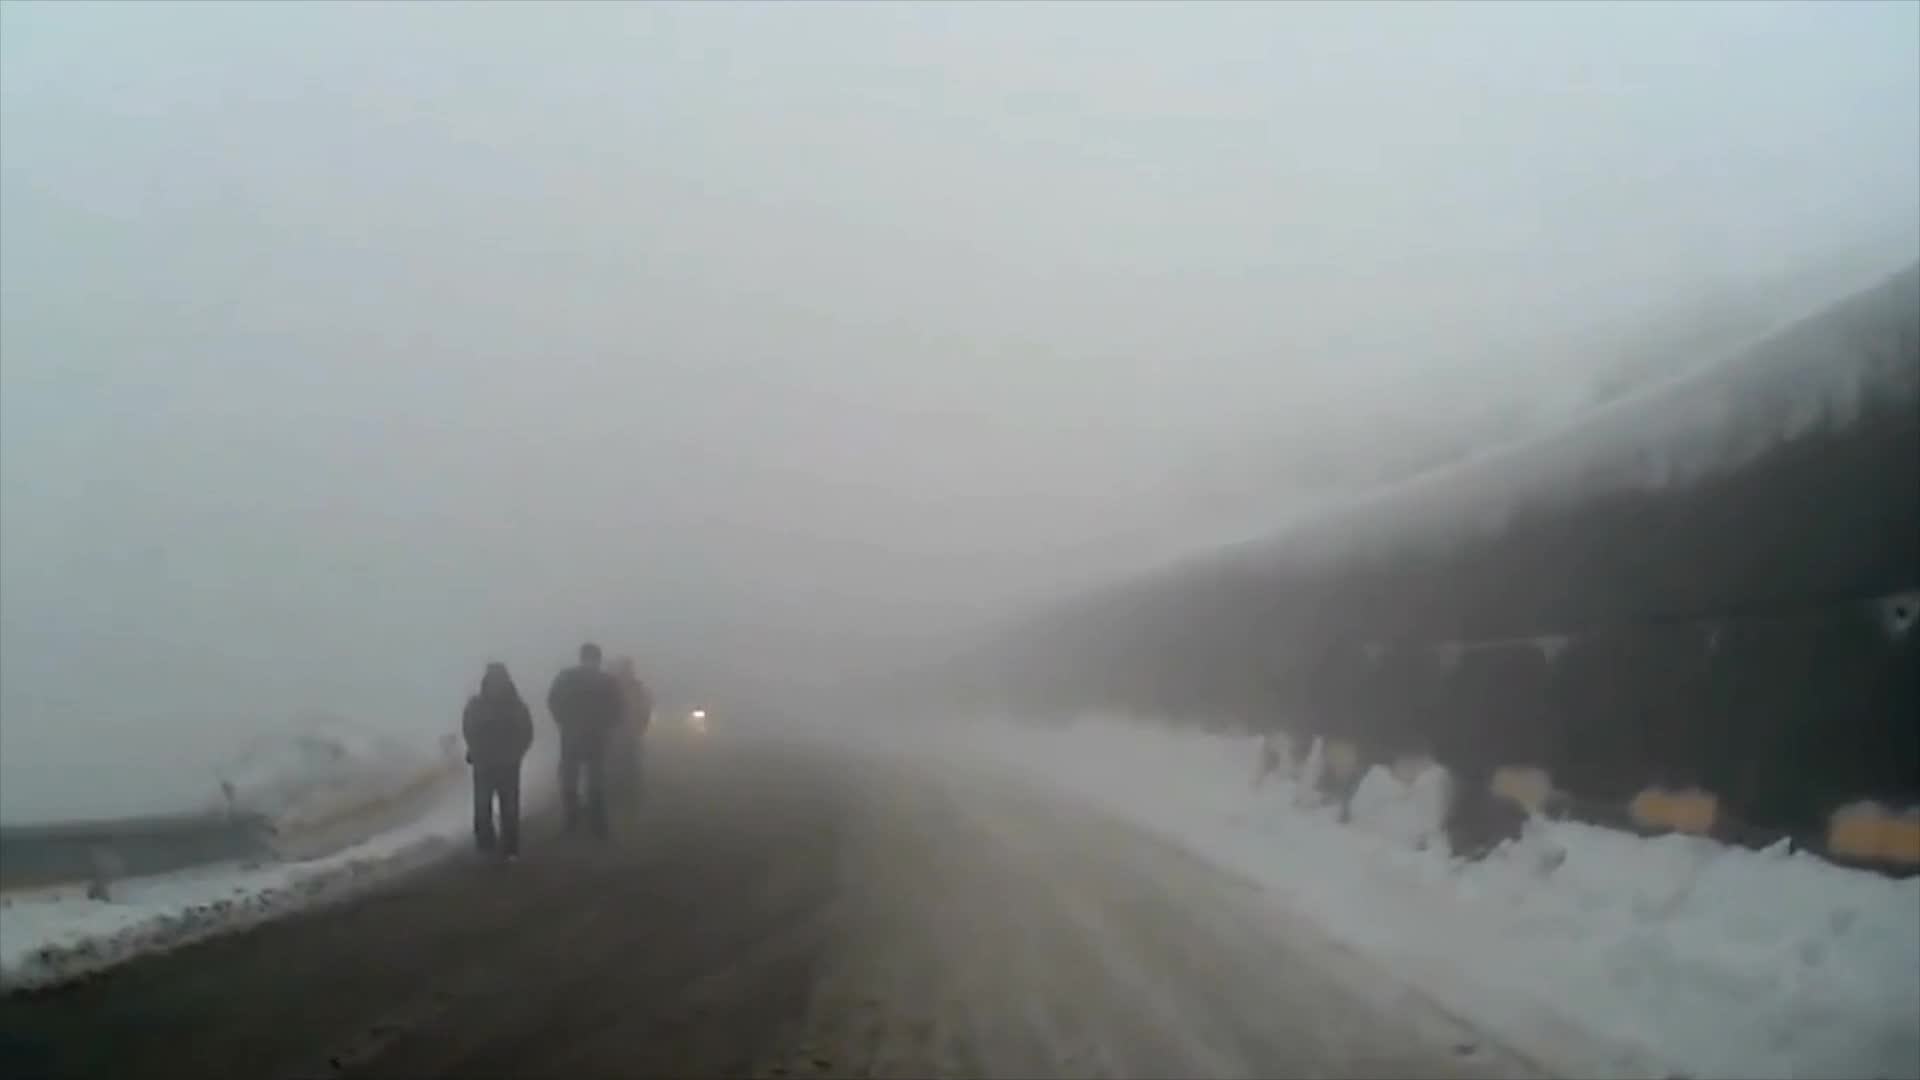pedestrian: (455, 659, 541, 871), (548, 640, 623, 839), (601, 655, 657, 820)
